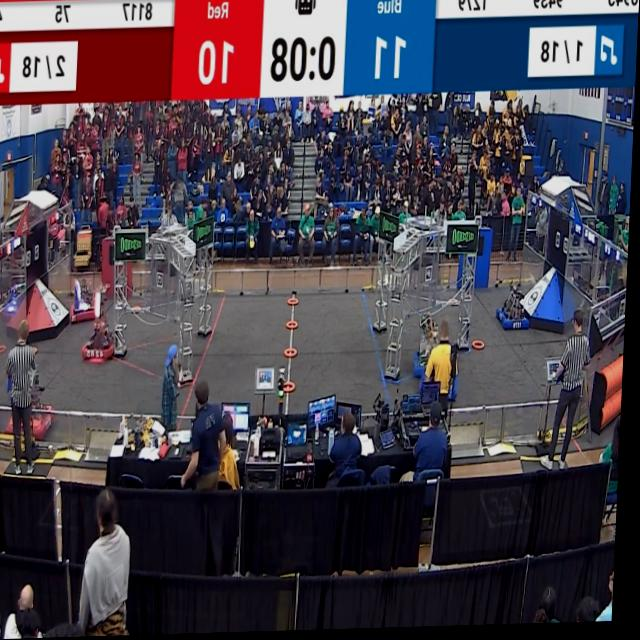Robot: (6, 337, 68, 439), (83, 273, 133, 369), (68, 268, 111, 328), (499, 282, 537, 339), (451, 327, 468, 409), (422, 319, 435, 384)
